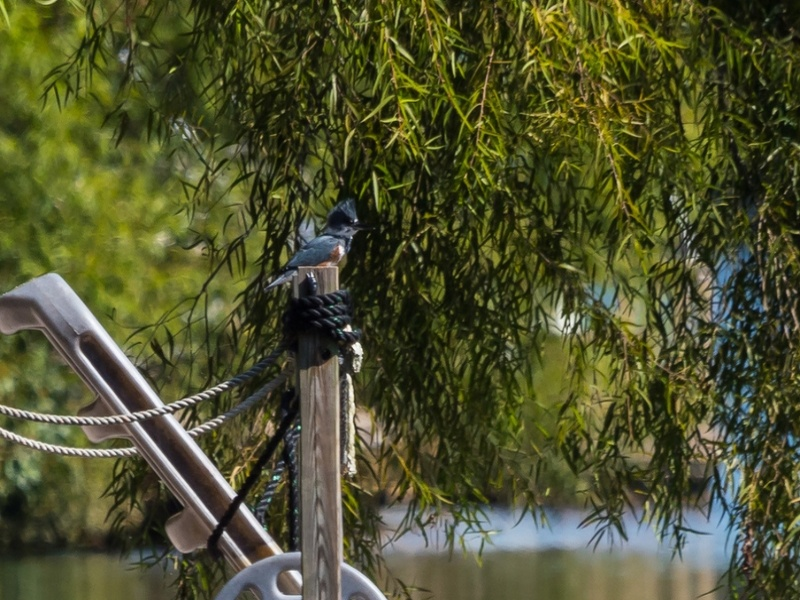kingfisher: (275, 199, 376, 285)
